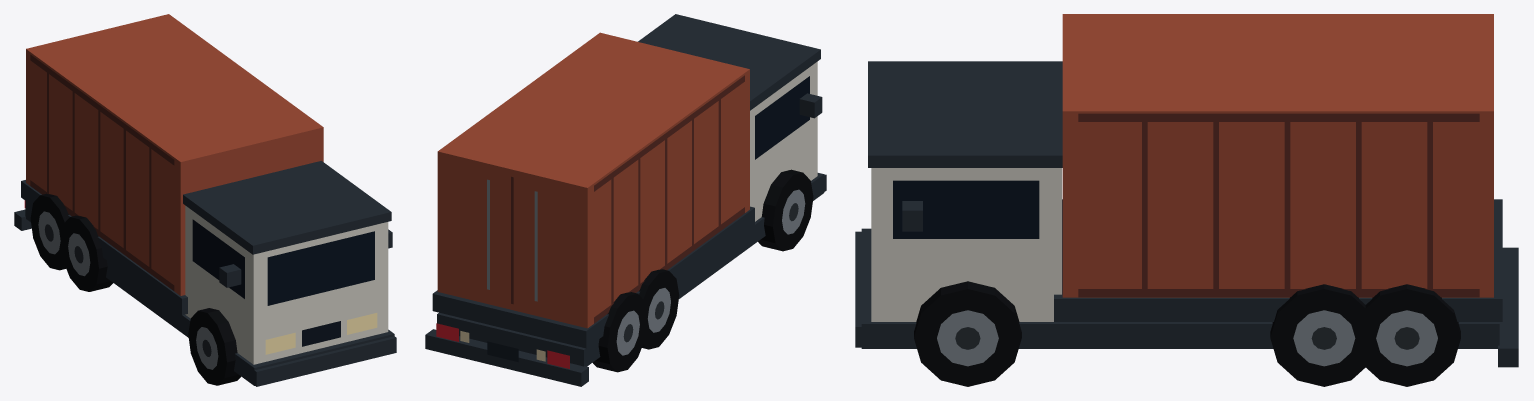
File: traffic-truck-container-low-poly.obj
3 renders of one model, left to right at view 1: azimuth 30°, elevation 25°; view 2: azimuth 150°, elevation 25°; view 3: azimuth 270°, elevation 25°, orthographic. The views are drawn at different scales.
Visible parts, largest first — view 1: freight-container, truck-cab, cab-roof, truck-windshield, truck-chassis, front-bumper, container-bed, cab-side-window--1, truck-wheel--1-2-cap-a, truck-wheel--1-0-cap-a, truck-wheel--1-1-cap-a, truck-wheel--1-2-tread (+14 smaller); view 2: freight-container, cab-roof, container-bed, truck-chassis, truck-cab, rear-bumper, cab-side-window--1, truck-wheel--1-0-cap-a, truck-wheel--1-2-cap-a, truck-wheel--1-1-cap-a, truck-wheel--1-2-tread, container-top-rail--1 (+13 smaller); view 3: freight-container, cab-roof, truck-cab, truck-chassis, cab-side-window-1, container-bed, truck-wheel-1-2-cap-b, truck-wheel-1-0-cap-b, truck-wheel-1-1-cap-b, container-top-rail-1, container-bottom-rail-1, truck-wheel-1-1-hub (+11 smaller).
Boxes of the visible parts, x1,y1,x2,y2 form: freight-container: (26,14,323,295); truck-cab: (185,205,388,364); cab-roof: (183,161,391,254); truck-windshield: (267,231,374,305); truck-chassis: (25,201,394,385); front-bumper: (249,336,396,386); container-bed: (21,180,187,315); cab-side-window--1: (192,219,244,298); truck-wheel--1-2-cap-a: (188,311,226,385); truck-wheel--1-0-cap-a: (30,195,68,270); truck-wheel--1-1-cap-a: (61,217,98,291); truck-wheel--1-2-tread: (198,308,240,385); freight-container: (437,32,749,328); cab-roof: (638,14,820,110); container-bed: (432,206,754,348); truck-chassis: (437,173,824,366); truck-cab: (750,61,817,221); rear-bumper: (425,329,588,386); cab-side-window--1: (755,76,809,159); truck-wheel--1-0-cap-a: (607,293,647,372); truck-wheel--1-2-cap-a: (773,172,813,251); truck-wheel--1-1-cap-a: (643,271,679,349); truck-wheel--1-2-tread: (758,169,802,251); container-top-rail--1: (594,75,744,191); freight-container: (1062,14,1493,297); cab-roof: (868,61,1062,167); truck-cab: (871,168,1061,321); truck-chassis: (861,228,1499,348); cab-side-window-1: (893,180,1039,238); container-bed: (1054,199,1502,321); truck-wheel-1-2-cap-b: (914,289,1021,386); truck-wheel-1-0-cap-b: (1354,289,1460,386); truck-wheel-1-1-cap-b: (1270,289,1376,386); container-top-rail-1: (1078,113,1479,121); container-bottom-rail-1: (1078,289,1479,297); truck-wheel-1-1-hub: (1293,310,1355,366).
Size of the model in its own units: 2.32 by 2.6 by 5.78.
